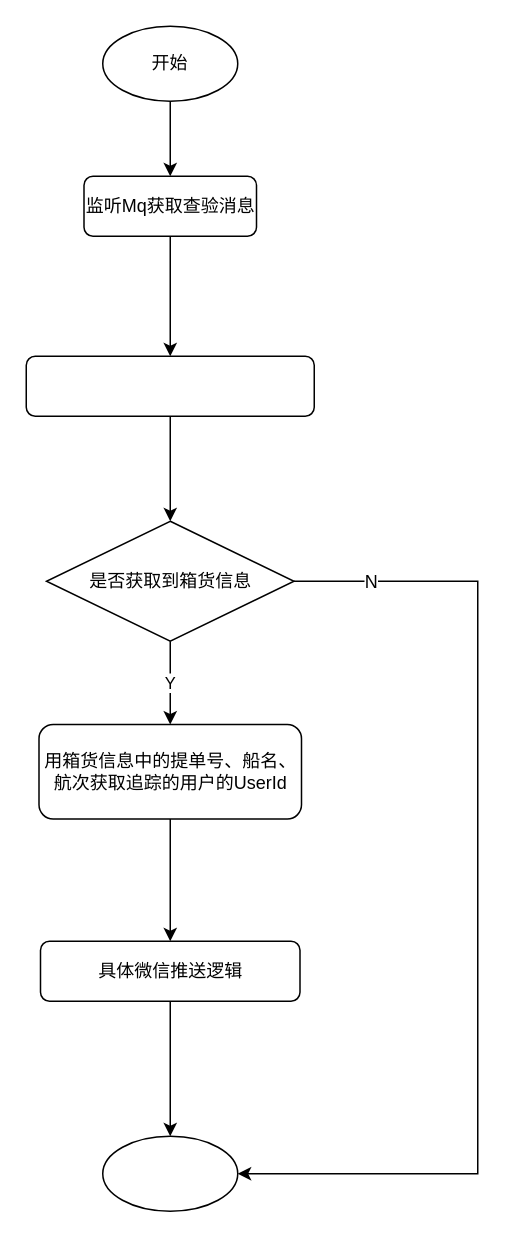
Some shapes in this 516 by 1238 pixel diagram are drawn without their labels. Here are the shapes that lost their labels. From the top down, the centre of each, then its label:
At pixel 169 385: "通过新数据的提单号、箱Id获取箱货信息".
At pixel 169 1173: "结束".
